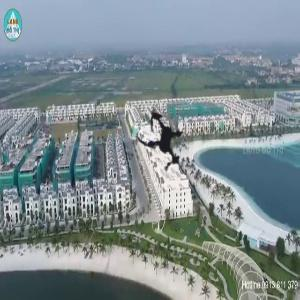drone: (109, 84, 223, 198)
